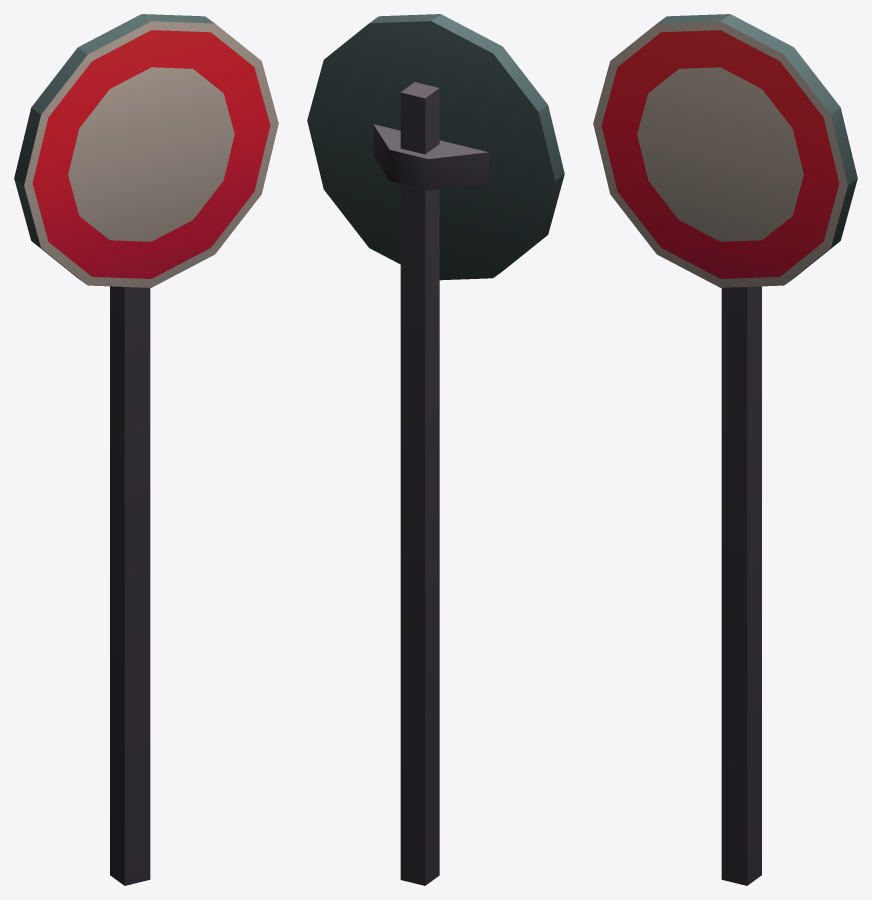
File: Streetsign_2F.fbx
3 views of the same model, side by side, from view 1: azimuth 30°, elevation 25°; view 2: azimuth 150°, elevation 25°; view 3: azimuth 330°, elevation 25° (orthographic). The views are drawn at different scales.
Visible parts, largest first — view 1: Streetsign_2F; view 2: Streetsign_2F; view 3: Streetsign_2F.
Part boxes in pixels (box(x1,y1,x2,y2)): Streetsign_2F: box(14, 14, 278, 885); Streetsign_2F: box(307, 14, 564, 885); Streetsign_2F: box(593, 14, 857, 885).
Size of the model in its own units: 88.97 by 291 by 19.83.
